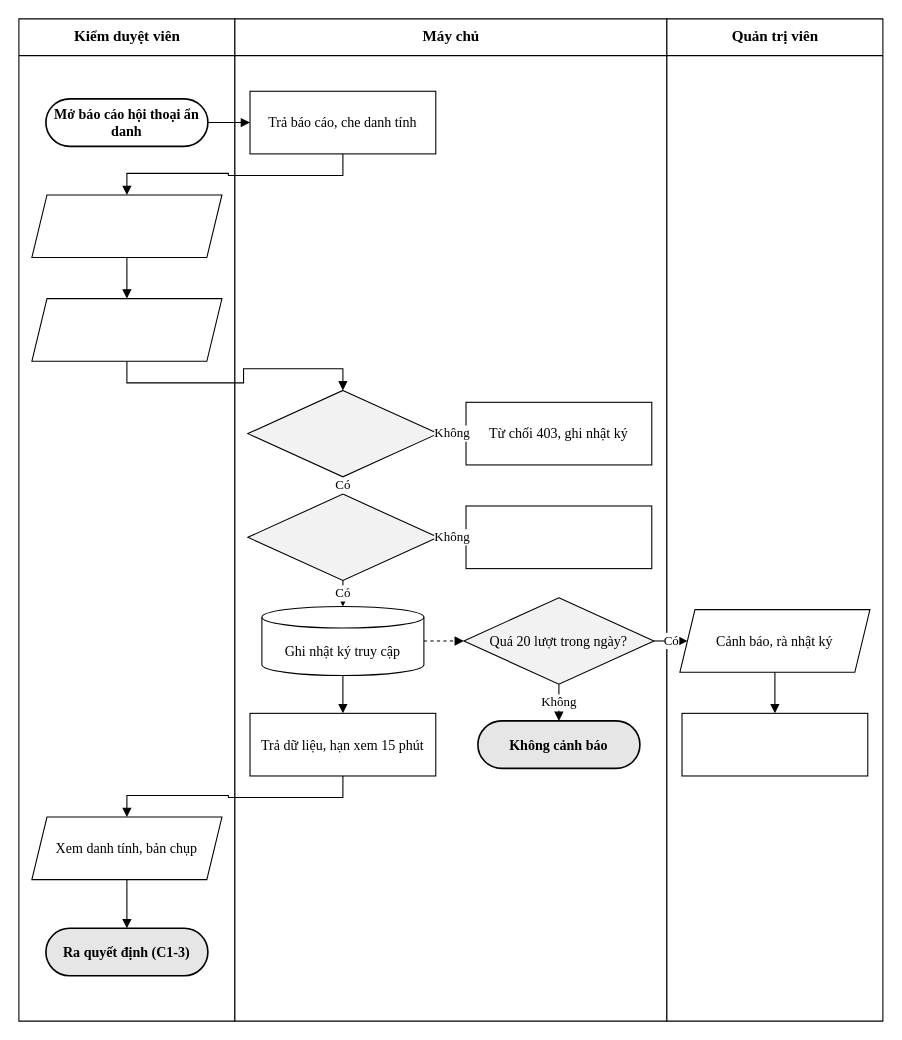
Image size: 902x1040. Some labels were removed from this diagram. Here are the shapes that lost their labels. From the top down, the centre of each, then its label:
At [126,226]: "Bấm Xem danh tính".
At [126,329]: "Chọn lý do truy cập".
At [342,433]: "Vai trò được phép?".
At [342,536]: "Nhập 2FA trong 15 phút?".
At [558,537]: "Yêu cầu nhập lại mã 2FA".
At [774,744]: "Thu hồi quyền nếu lạm dụng".
